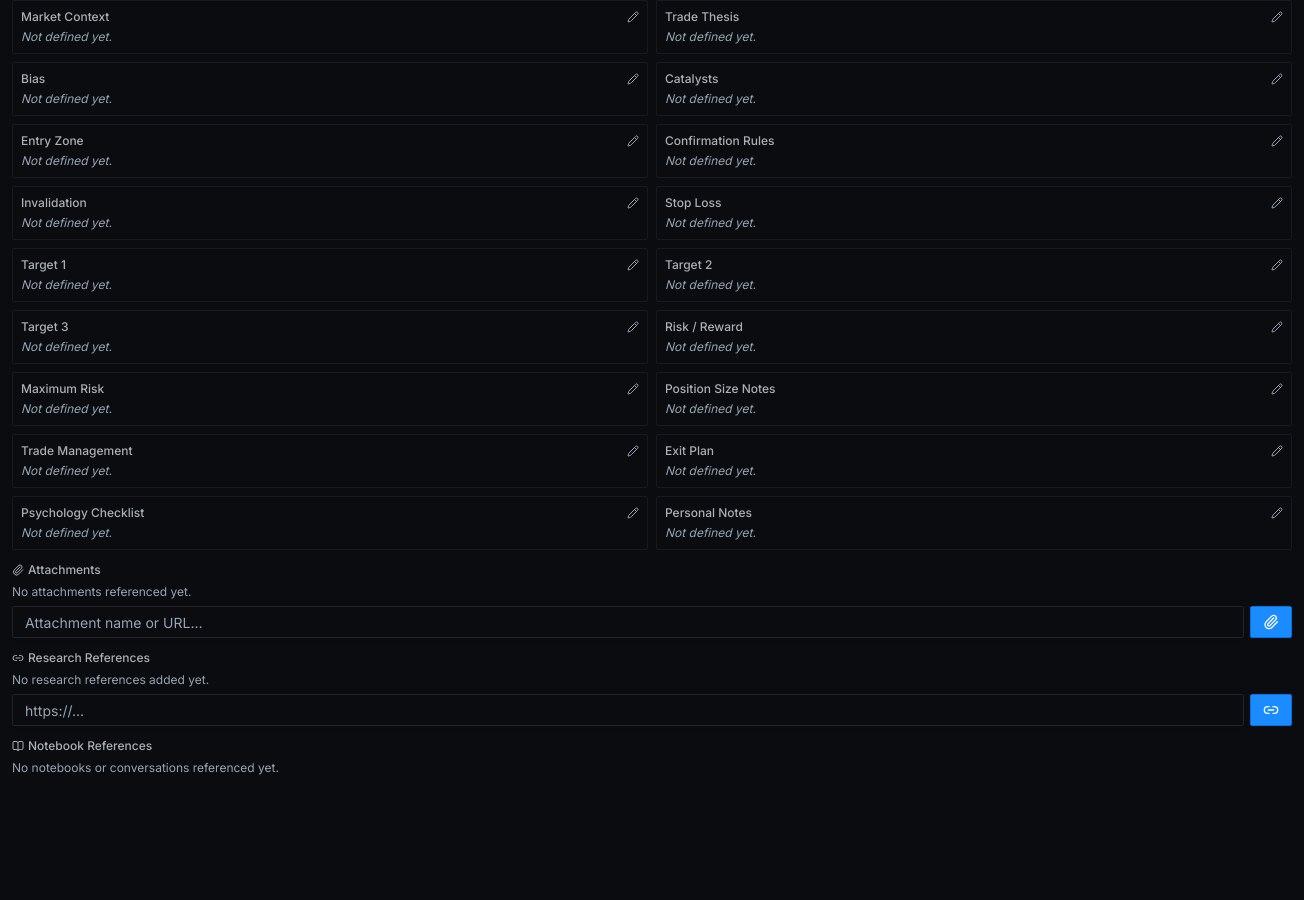
TradePlanEditor — qualitative sections › cancel closes the edit form without saving
Step 1. Click the button with test id "trade-plan-editor-section-stop_loss-edit-toggle" → (1277, 203), box [1271,197,1283,209]
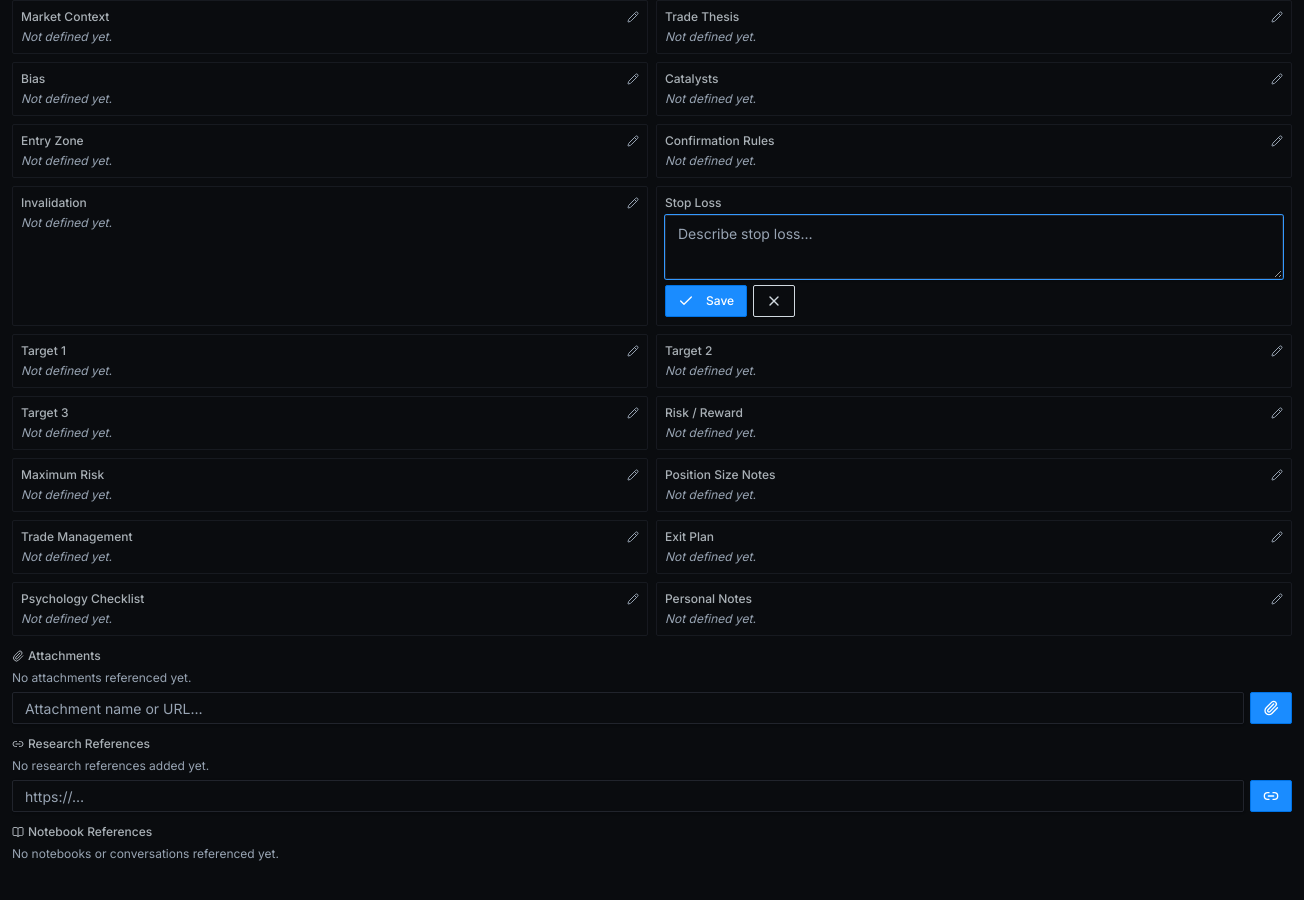
Step 2. Type "Abandoned" into the text box with test id "trade-plan-editor-section-stop_loss-input" → (974, 247), box [665,215,1283,279]
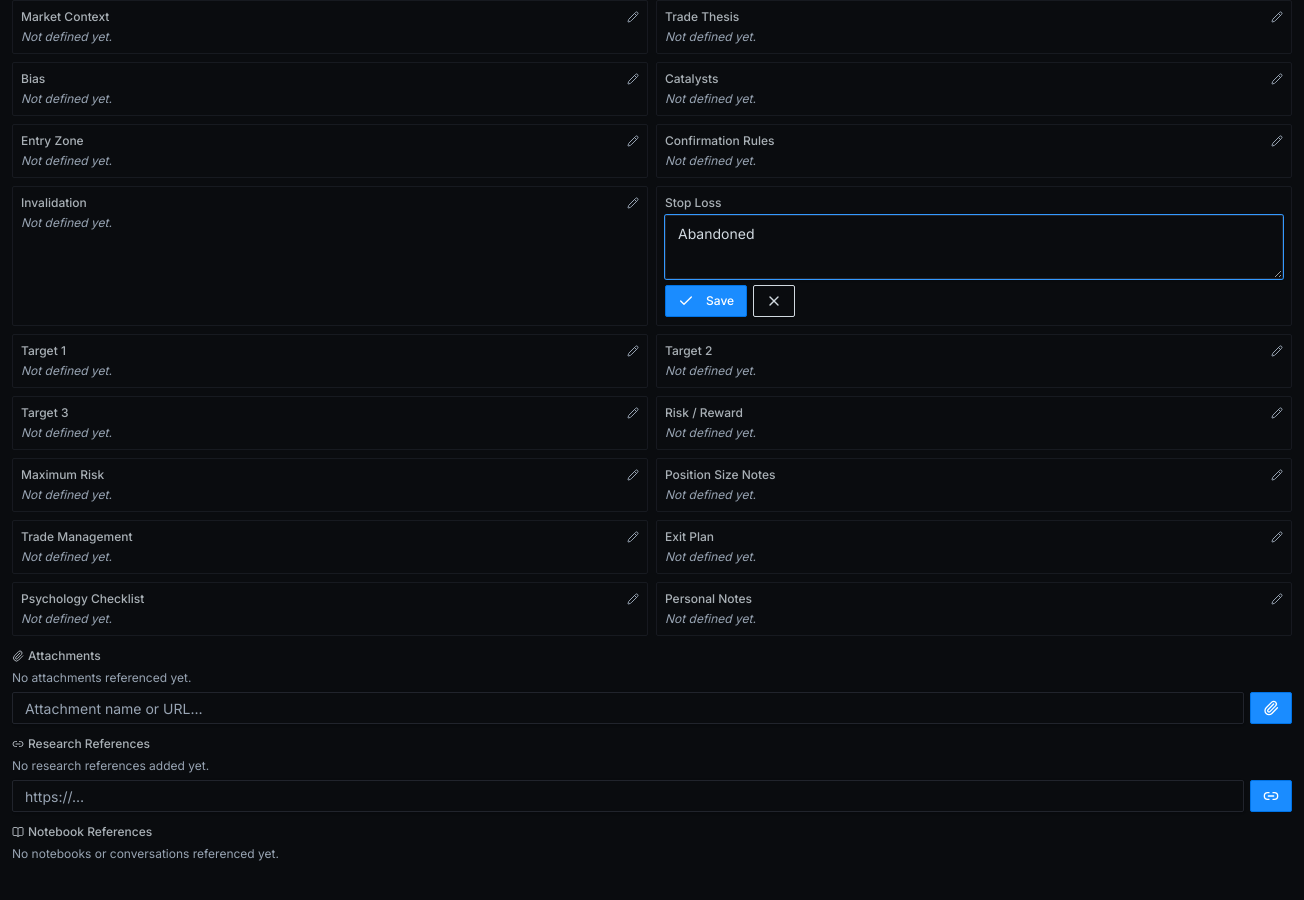
Step 3. Click the button with test id "trade-plan-editor-section-stop_loss-cancel" → (774, 301), box [753,285,795,317]
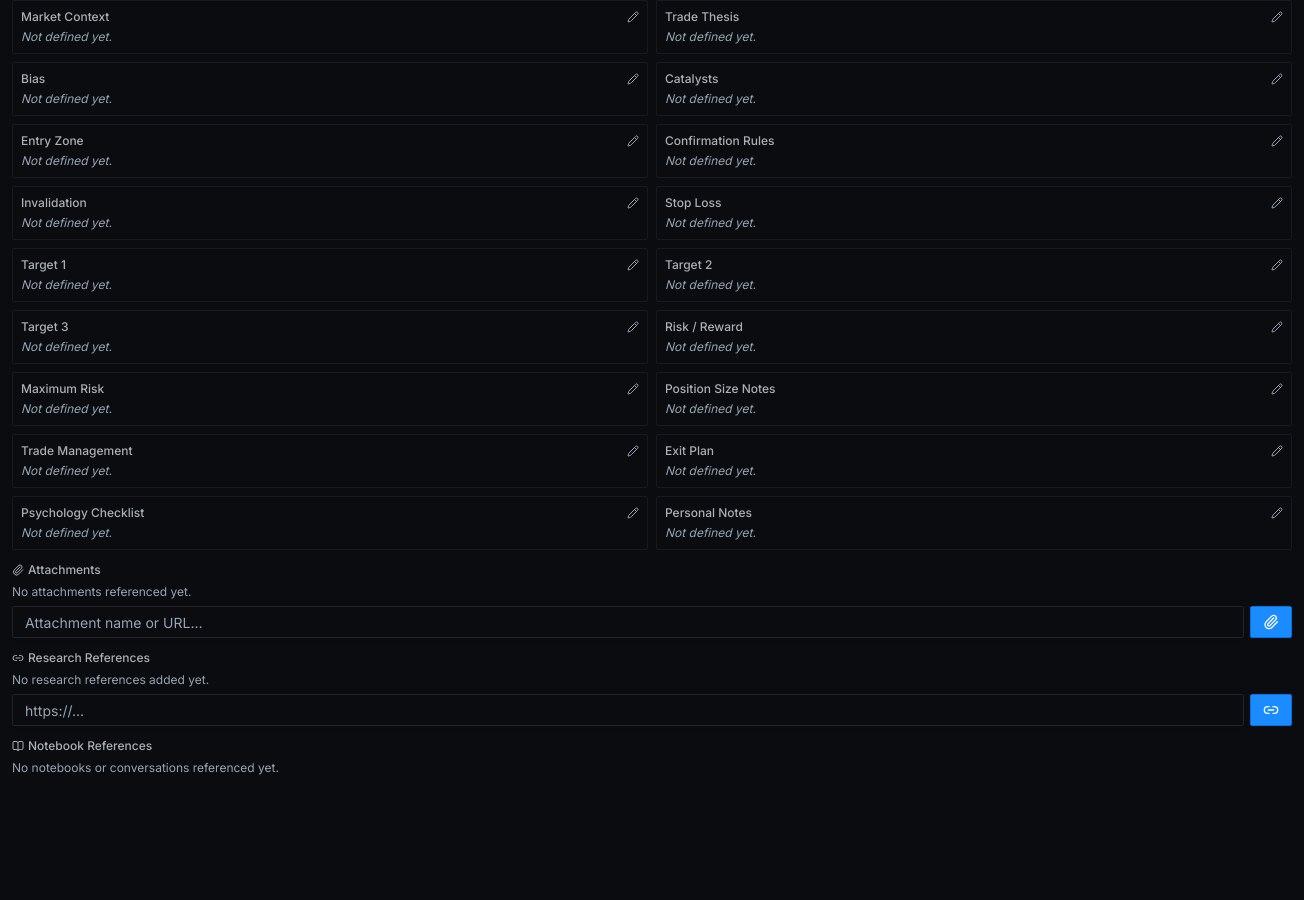
Expected: the text box with test id "trade-plan-editor-section-stop_loss-input" is gone
